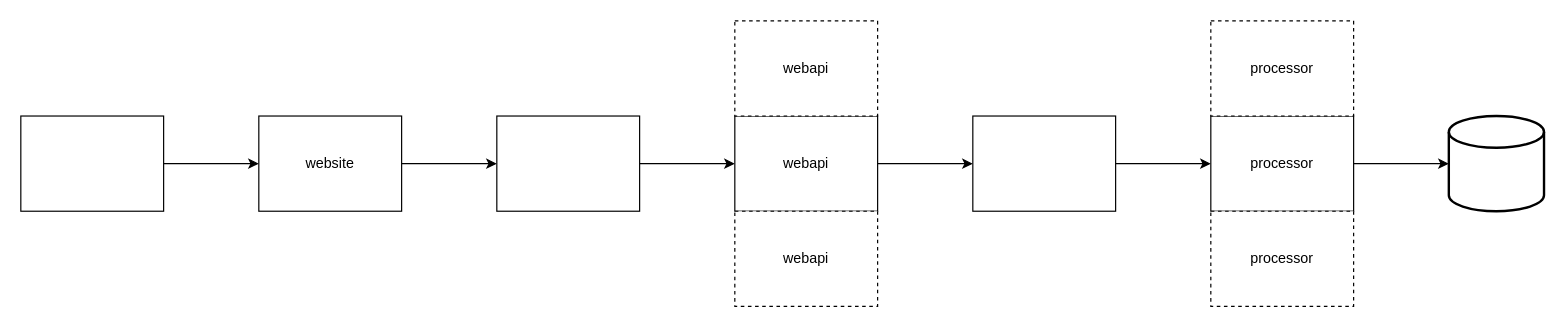
This 1566x327 diagram has some shape labels left out. The box of each missing label's shape, as (x1, y1, x2, y2) in pixels:
nginx: (496, 115, 640, 211)
rabbitmq: (972, 115, 1116, 211)
sqlite: (1447, 114, 1545, 212)
Пользователь: (20, 115, 164, 211)
